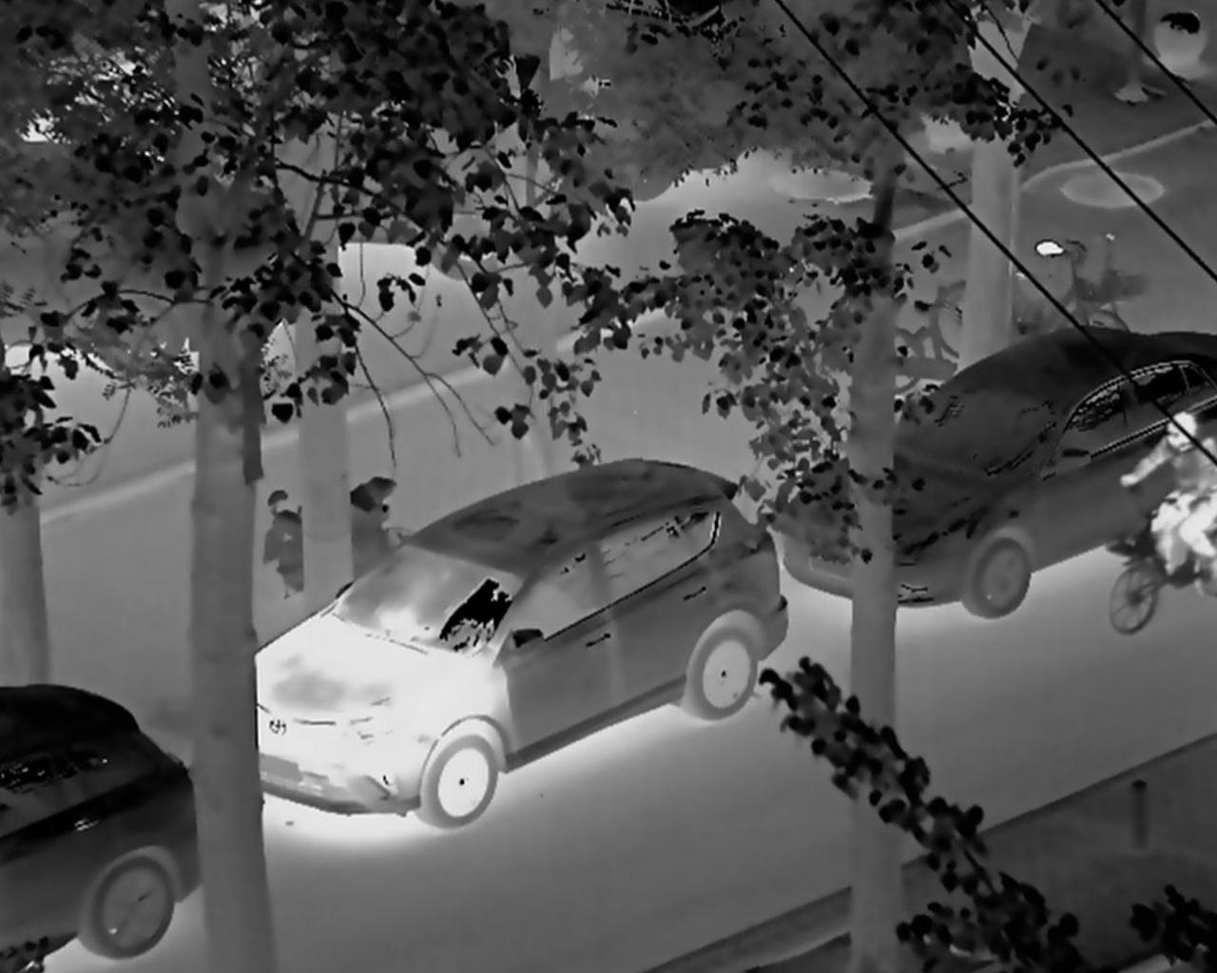person: (1115, 415, 1217, 610)
